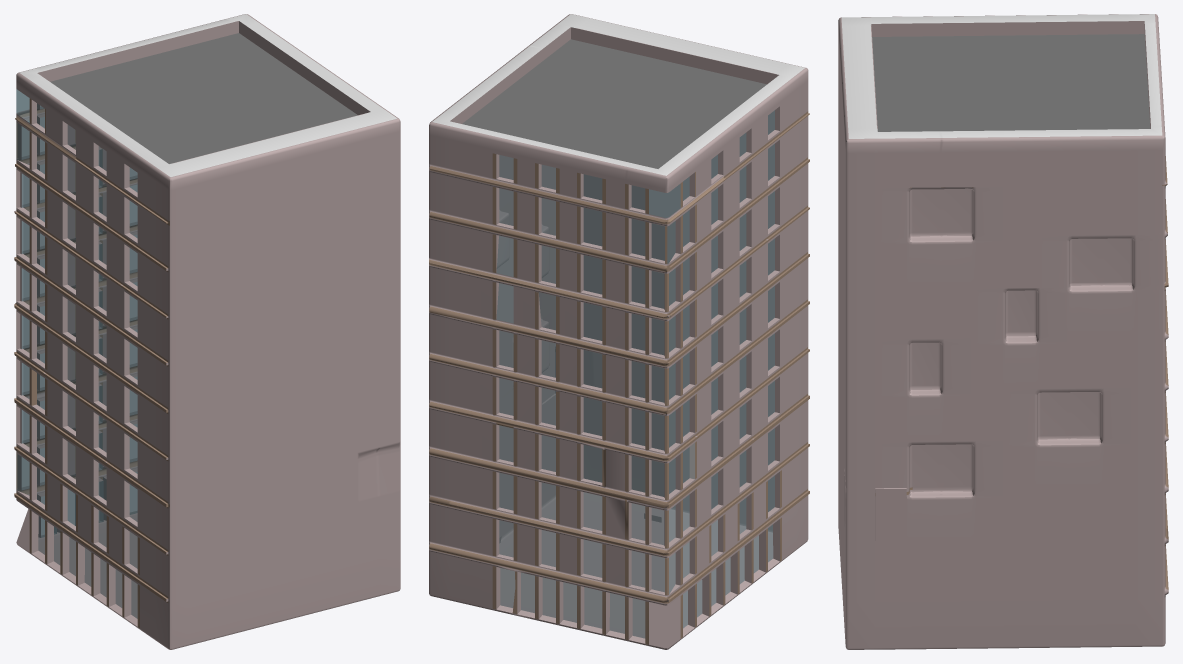
Rendered from town- pinkbuild.fbx.
3 renders of one model, left to right at view 1: azimuth 30°, elevation 25°; view 2: azimuth 150°, elevation 25°; view 3: azimuth 270°, elevation 25°, orthographic. The views are drawn at different scales.
Parts seen in each view (by area): view 1: pasted__pasted__group33_pasted__pasted__pPlane19; view 2: pasted__pasted__group33_pasted__pasted__pPlane19; view 3: pasted__pasted__group33_pasted__pasted__pPlane19.
Part boxes in pixels (x1=…): pasted__pasted__group33_pasted__pasted__pPlane19: x1=14, y1=14, x2=400, y2=649; pasted__pasted__group33_pasted__pasted__pPlane19: x1=429, y1=14, x2=809, y2=649; pasted__pasted__group33_pasted__pasted__pPlane19: x1=838, y1=14, x2=1168, y2=649.
Bounding box in the file's own units: 17.15 × 31.64 × 18.55.
